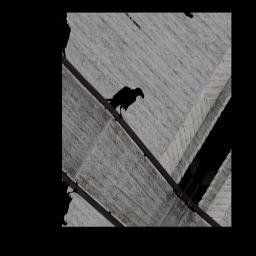Crow: (100, 68, 147, 130)
